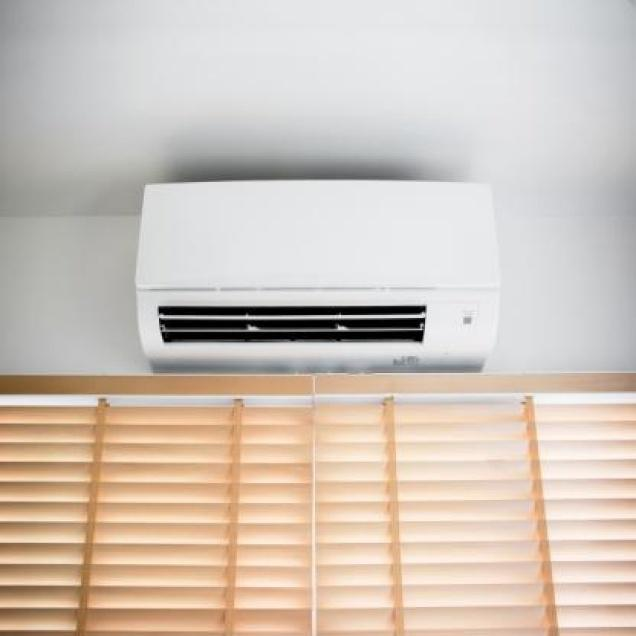AC: (134, 177, 499, 372)
